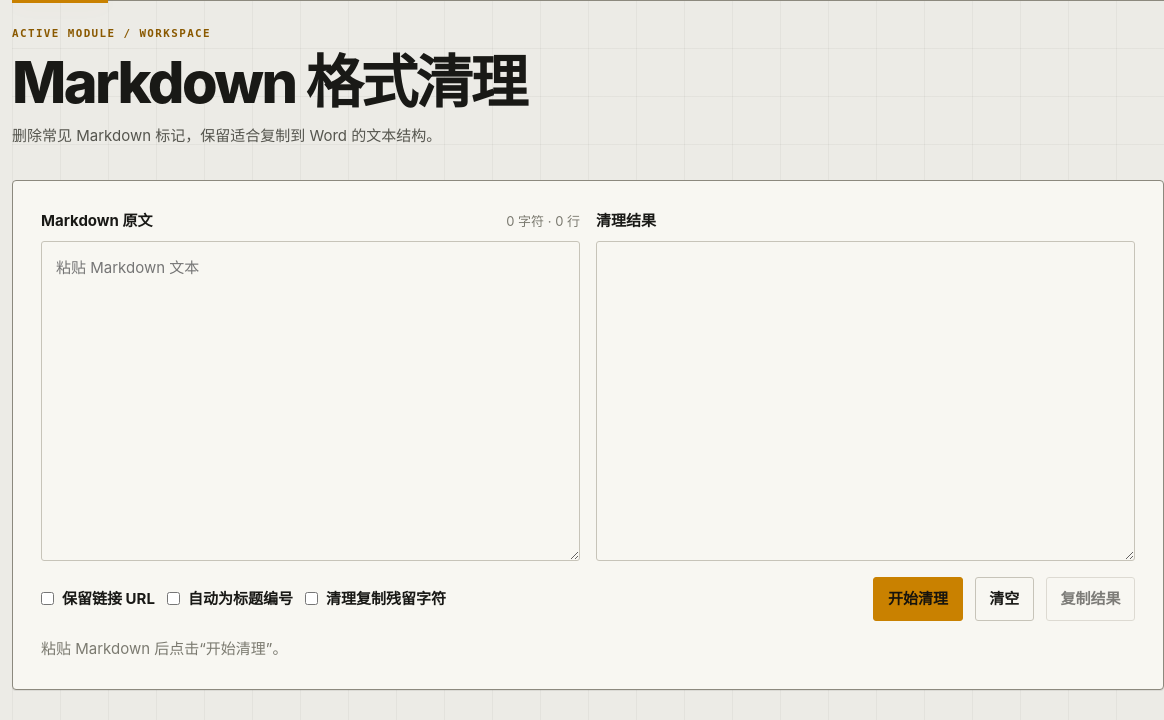
Test: MarkdownTextCleanerView › keeps the existing link URL option behavior
Type "[Link](https://example.com)" into the text box with id "markdown-source-text" at [310, 401], box [41,241,580,561]
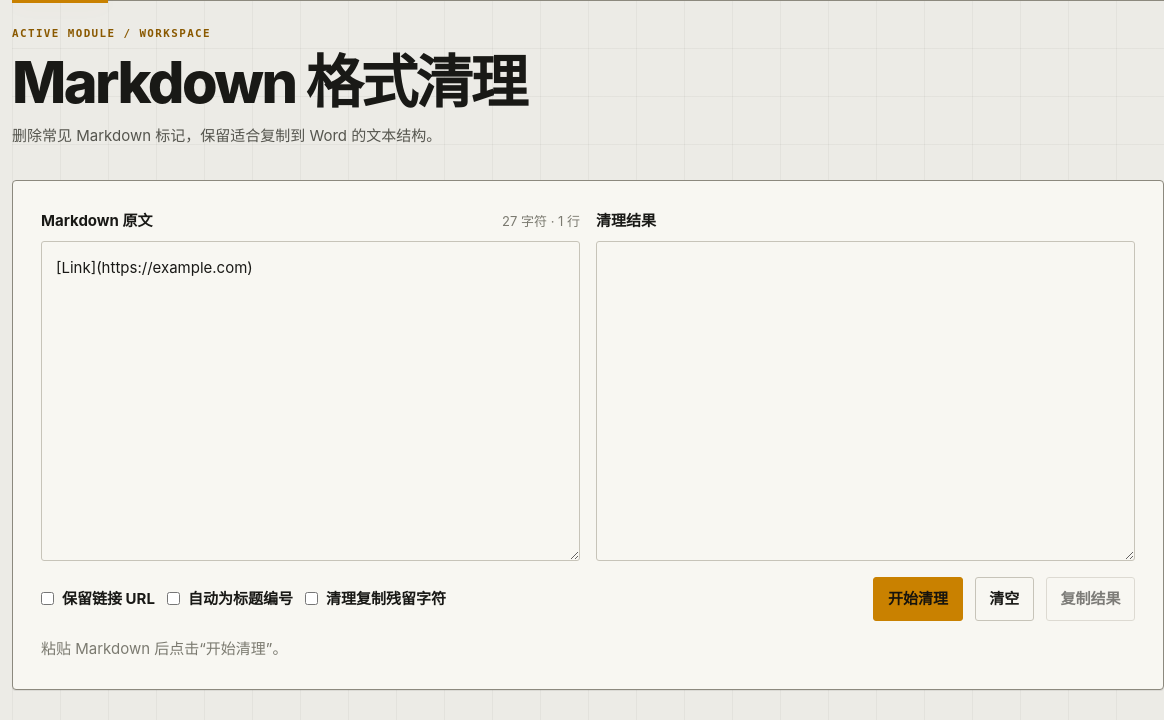
Click the button "开始清理" at [918, 599], box [873,577,963,621]
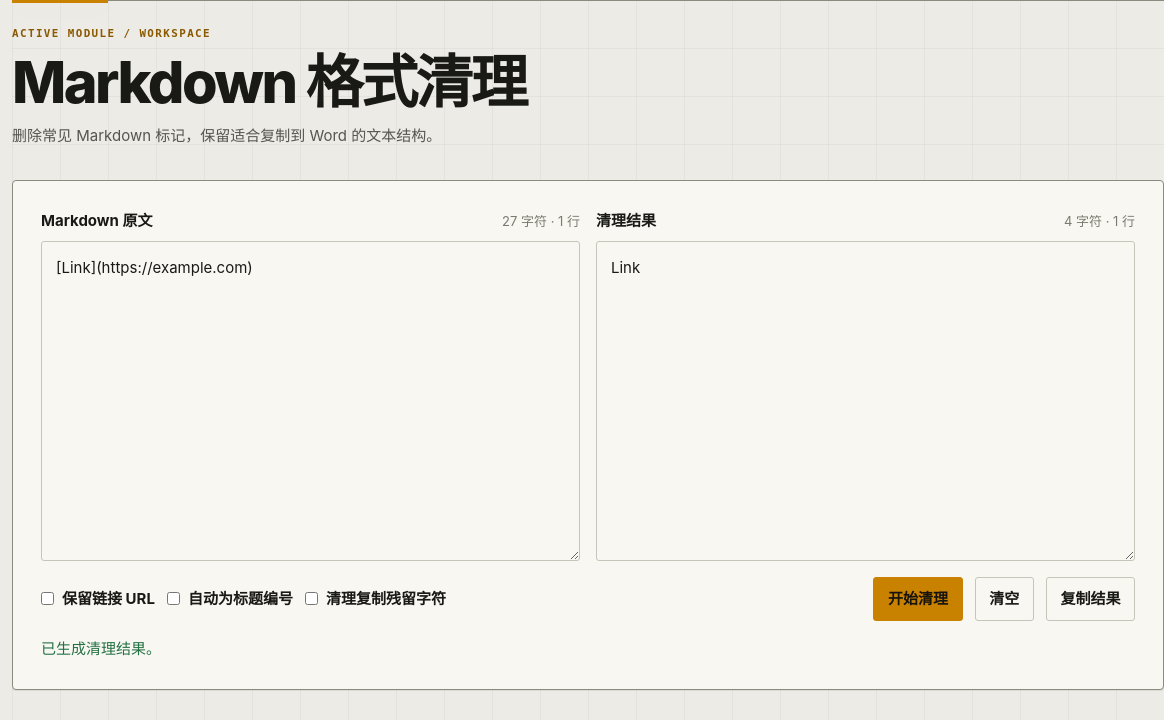
expect the text box with id "cleaned-markdown-text" holds "Link": met, box [596,241,1135,561]
Click the checkbox labelled "保留链接 URL" at [48, 599], box [41,592,54,605]
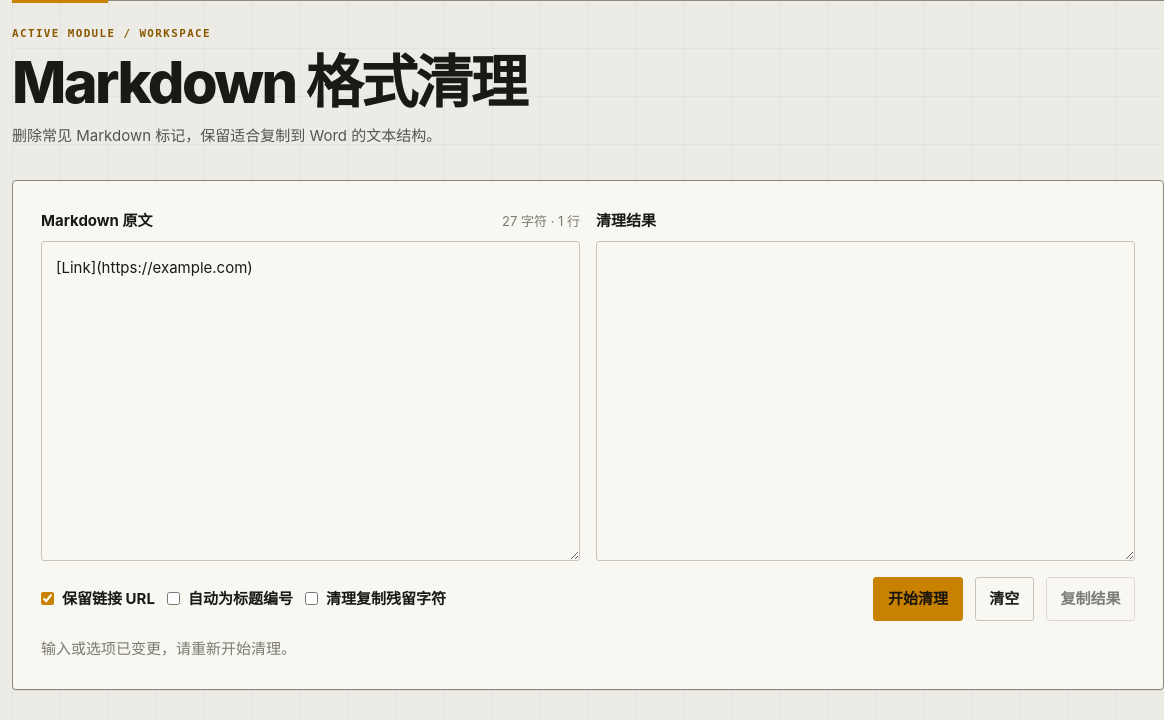
Click the button "开始清理" at [918, 599], box [873,577,963,621]
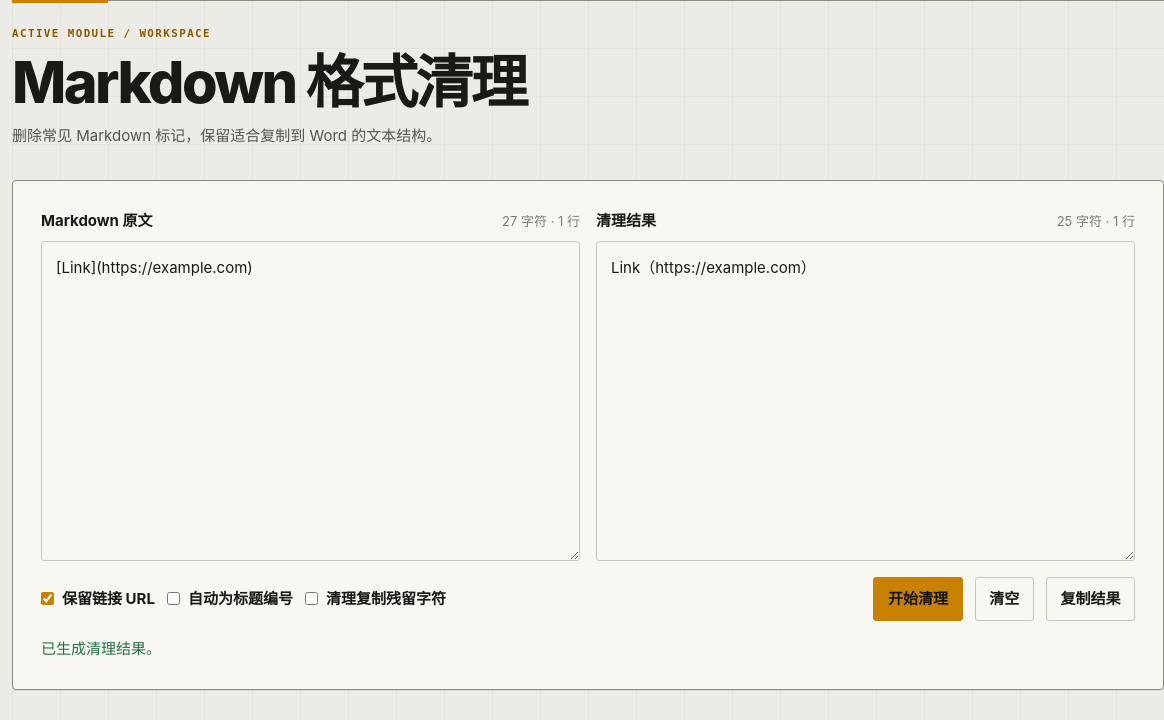
expect the text box with id "cleaned-markdown-text" holds "Link（https://example.com）": met, box [596,241,1135,561]
